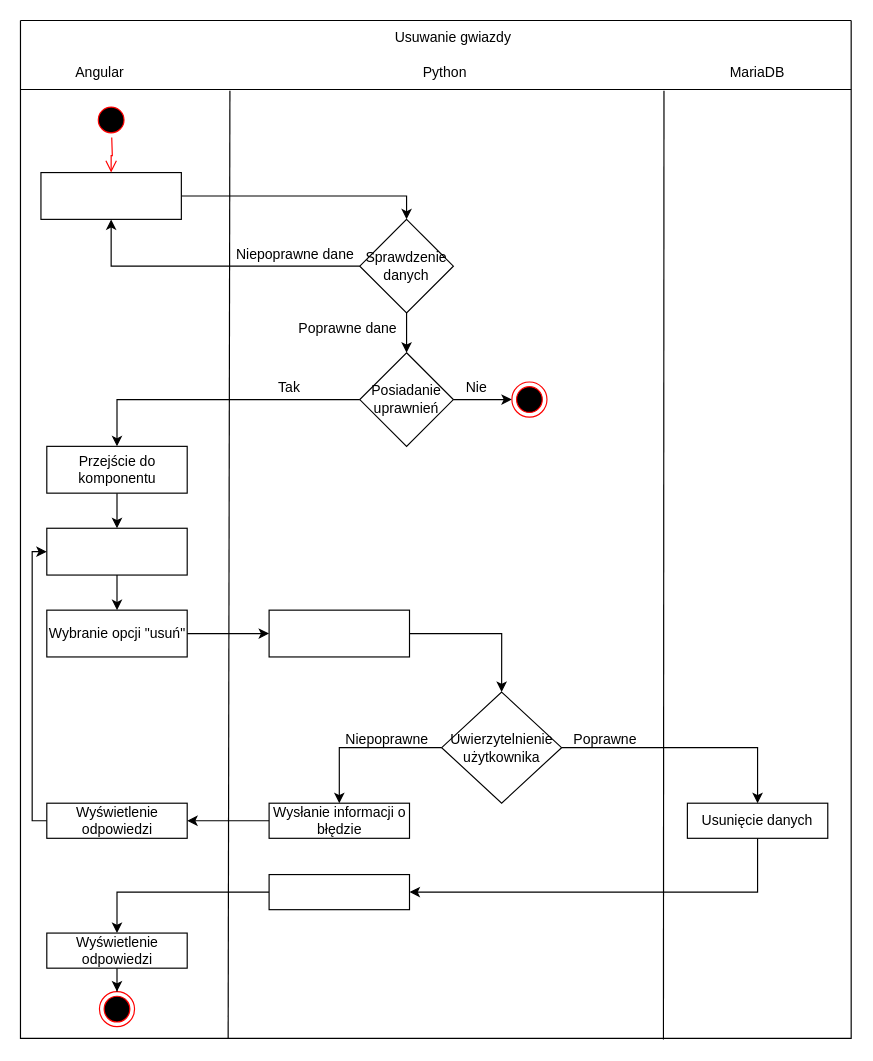
Some shapes in this 873 by 1061 pixel diagram are drawn without their labels. The shapes that lost their labels are listed below. From the top down, each one's box as (x1, y1, x2, y2) in pixels, then its label:
(40, 171, 181, 219): Logowanie
(46, 527, 187, 575): Wybranie gwiazdy
(268, 609, 410, 657): Odbiór informacji
(268, 873, 410, 910): Wysłanie pozytywnej odpowiedzi
